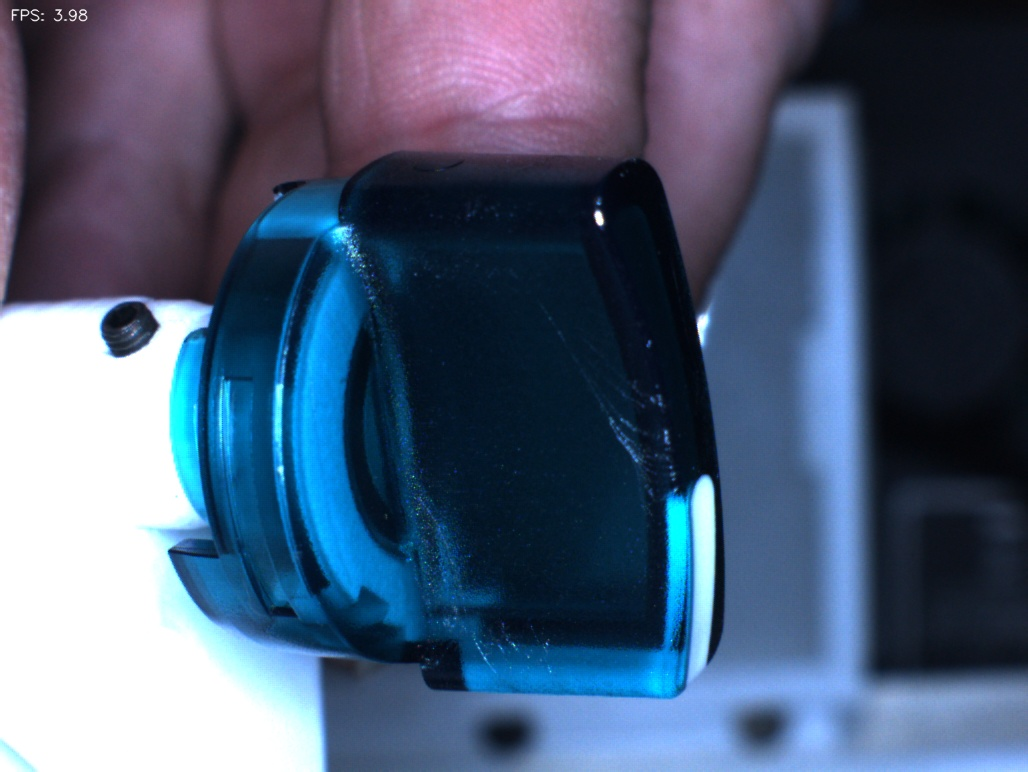Givrage: (466, 594, 574, 690)
